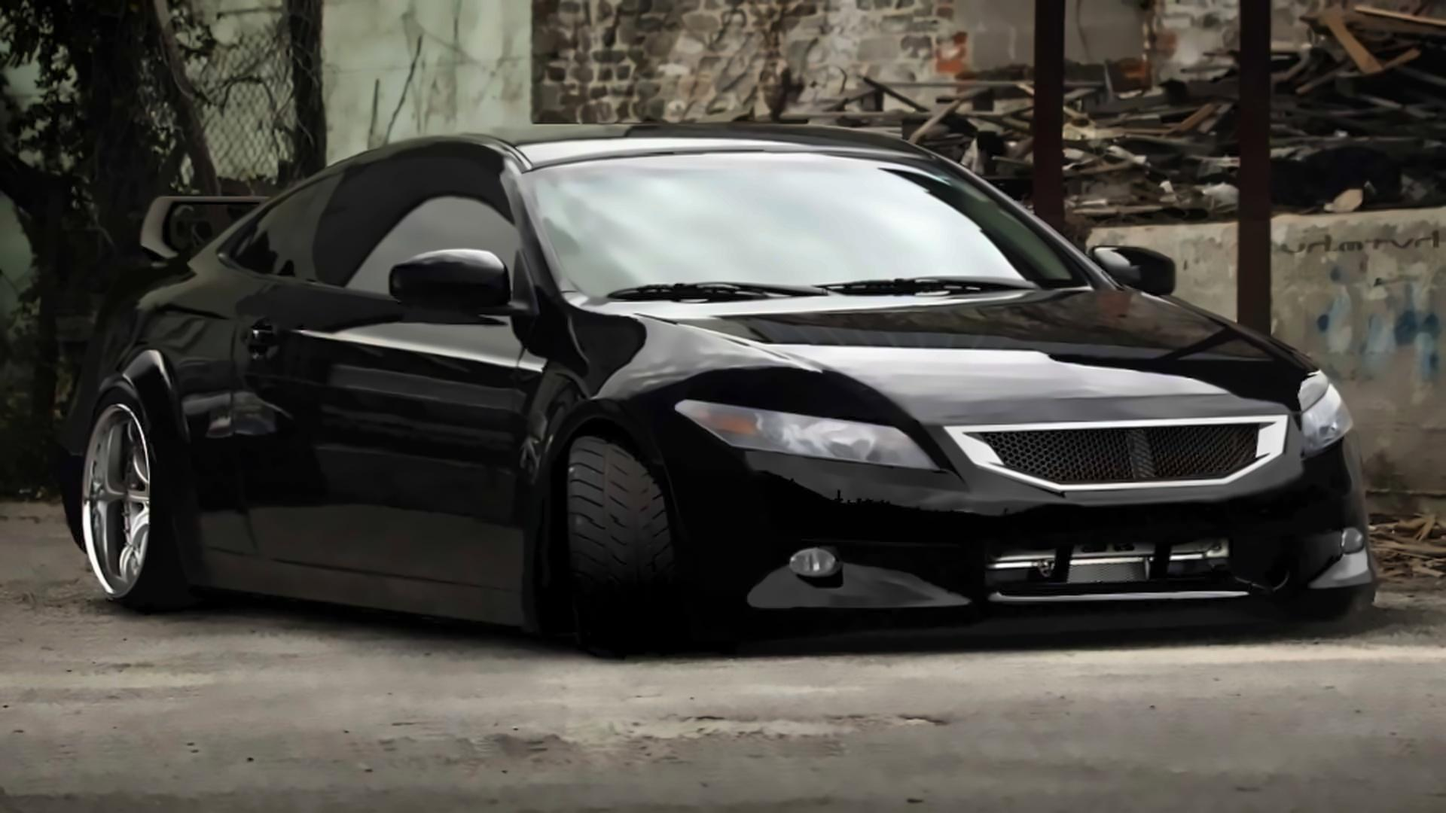Car hood: (578, 281, 1310, 414)
Driver-s door - -F-R-: (224, 122, 540, 638)
Fender - -F-R-: (488, 266, 618, 605)
Fender - -R-R-: (77, 222, 236, 491)
Front bumper: (614, 430, 1389, 626)
Headlight - -L-: (1287, 365, 1356, 457)
Headlight - -R-: (670, 387, 952, 467)
Side bumper - -R-: (177, 543, 539, 641)
Side mirror - -L-: (1091, 241, 1184, 294)
Side mirror - -R-: (384, 245, 549, 334)
